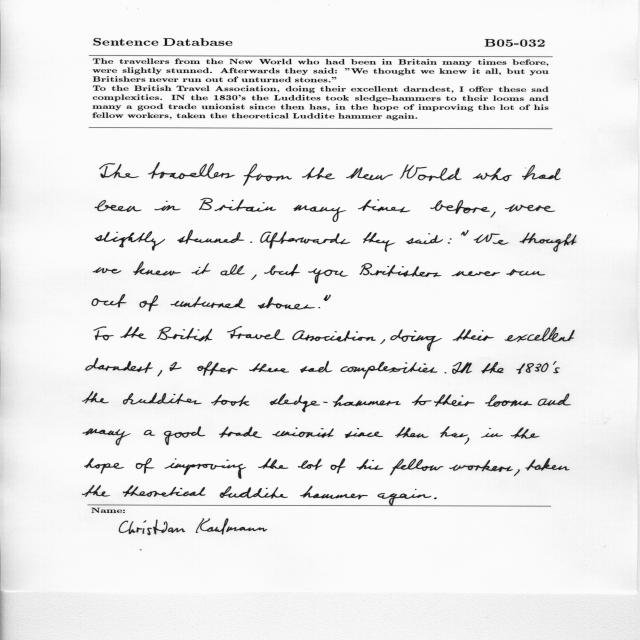word: (269, 394, 401, 412), (164, 458, 246, 479), (341, 362, 438, 379), (261, 231, 351, 249), (148, 163, 235, 180), (95, 231, 165, 251), (360, 263, 442, 277), (390, 329, 442, 351), (520, 233, 577, 252), (243, 164, 292, 186), (199, 198, 276, 212), (400, 164, 462, 181), (505, 327, 575, 342), (292, 330, 376, 342), (86, 358, 153, 373), (123, 485, 205, 497), (123, 393, 202, 405), (178, 230, 245, 244), (378, 489, 432, 506), (293, 205, 346, 222), (390, 459, 443, 476), (171, 297, 246, 309), (220, 486, 288, 499), (300, 486, 368, 499), (83, 428, 131, 446), (430, 200, 490, 214), (227, 326, 284, 340), (164, 426, 206, 445), (157, 327, 212, 341), (449, 460, 513, 472), (258, 297, 315, 310), (272, 427, 334, 438), (358, 200, 410, 213), (133, 262, 181, 276), (363, 232, 395, 252), (308, 268, 348, 284), (85, 458, 125, 474), (197, 361, 238, 376), (346, 167, 393, 180), (100, 163, 139, 178), (522, 165, 561, 180), (516, 361, 560, 374), (526, 458, 570, 471), (485, 395, 532, 407), (95, 200, 141, 212), (473, 168, 512, 182), (434, 394, 474, 407), (453, 329, 494, 341), (219, 427, 262, 438), (212, 395, 250, 407), (92, 295, 126, 308), (537, 393, 571, 406), (264, 264, 300, 276), (302, 167, 335, 180), (474, 233, 509, 245), (406, 233, 443, 244), (505, 204, 555, 212), (249, 363, 289, 373), (300, 361, 332, 373), (345, 428, 383, 438), (395, 427, 429, 438), (511, 427, 540, 439), (82, 485, 110, 497), (259, 458, 289, 469), (82, 392, 109, 404), (140, 295, 159, 312), (121, 327, 147, 339), (440, 427, 468, 438), (220, 264, 245, 276), (357, 459, 384, 470), (94, 327, 114, 341), (507, 269, 546, 276), (136, 458, 154, 473), (298, 459, 322, 470), (155, 201, 181, 211), (482, 362, 504, 373), (452, 271, 500, 276), (452, 362, 472, 374), (331, 458, 346, 474), (192, 263, 211, 275), (412, 395, 432, 406), (481, 428, 503, 438), (94, 267, 122, 274), (170, 362, 182, 371), (144, 430, 155, 436), (461, 230, 469, 236), (324, 295, 331, 301), (514, 470, 520, 477), (465, 438, 470, 445), (491, 212, 496, 218), (251, 275, 257, 280), (380, 339, 385, 344), (448, 238, 452, 244), (158, 370, 162, 376), (434, 498, 437, 500), (250, 241, 252, 243), (445, 372, 447, 374), (318, 307, 320, 308)
